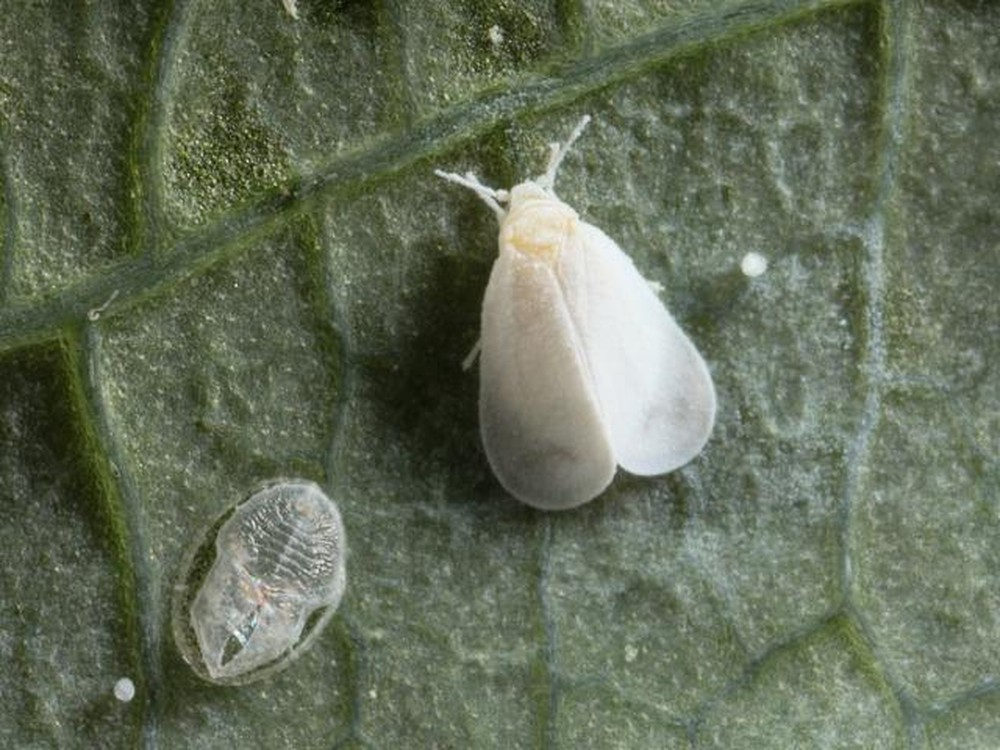Mosca Blanca: (404, 106, 761, 535)
